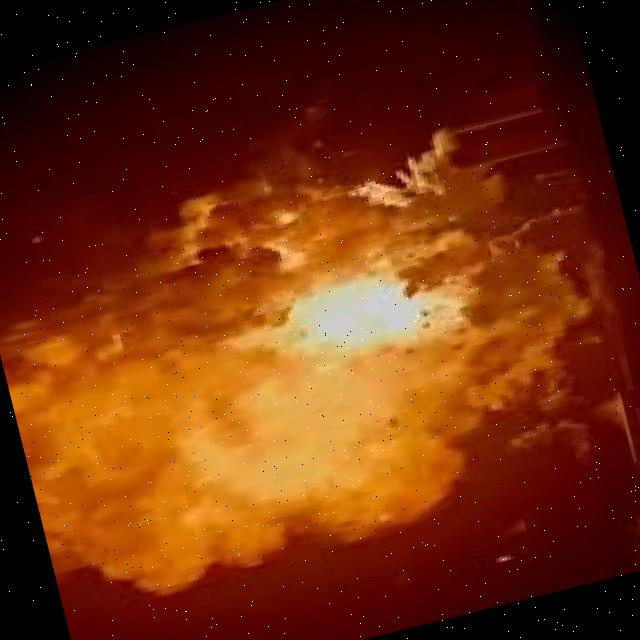explosion: (0, 46, 640, 640)
